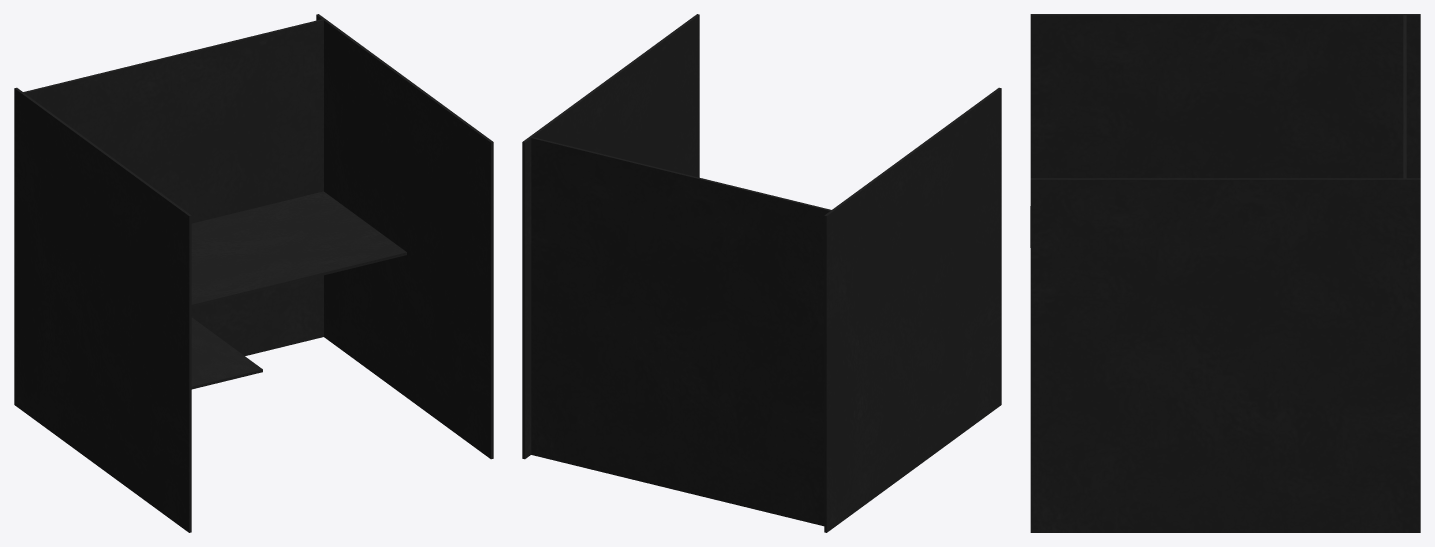
The model's file is Cubicle V2.fbx.
3 renders of one model, left to right at view 1: azimuth 30°, elevation 25°; view 2: azimuth 150°, elevation 25°; view 3: azimuth 270°, elevation 25°, orthographic. The views are drawn at different scales.
Parts seen in each view (by area): view 1: pCube21, pCube22, pCube23, pCube24, pCube38; view 2: pCube23, pCube21, pCube22; view 3: pCube22, pCube21, pCube23.
Part boxes in pixels (x1=…): pCube21: x1=14, y1=87, x2=191, y2=532; pCube22: x1=316, y1=14, x2=493, y2=459; pCube23: x1=21, y1=19, x2=324, y2=355; pCube24: x1=191, y1=191, x2=406, y2=307; pCube38: x1=191, y1=317, x2=262, y2=389; pCube23: x1=530, y1=136, x2=831, y2=526; pCube21: x1=824, y1=87, x2=1001, y2=532; pCube22: x1=522, y1=14, x2=699, y2=459; pCube22: x1=1030, y1=178, x2=1420, y2=532; pCube21: x1=1030, y1=14, x2=1420, y2=178; pCube23: x1=1403, y1=14, x2=1406, y2=178.
Size of the model in its own units: 206 by 205 by 205.
1 material, 1 textured.
